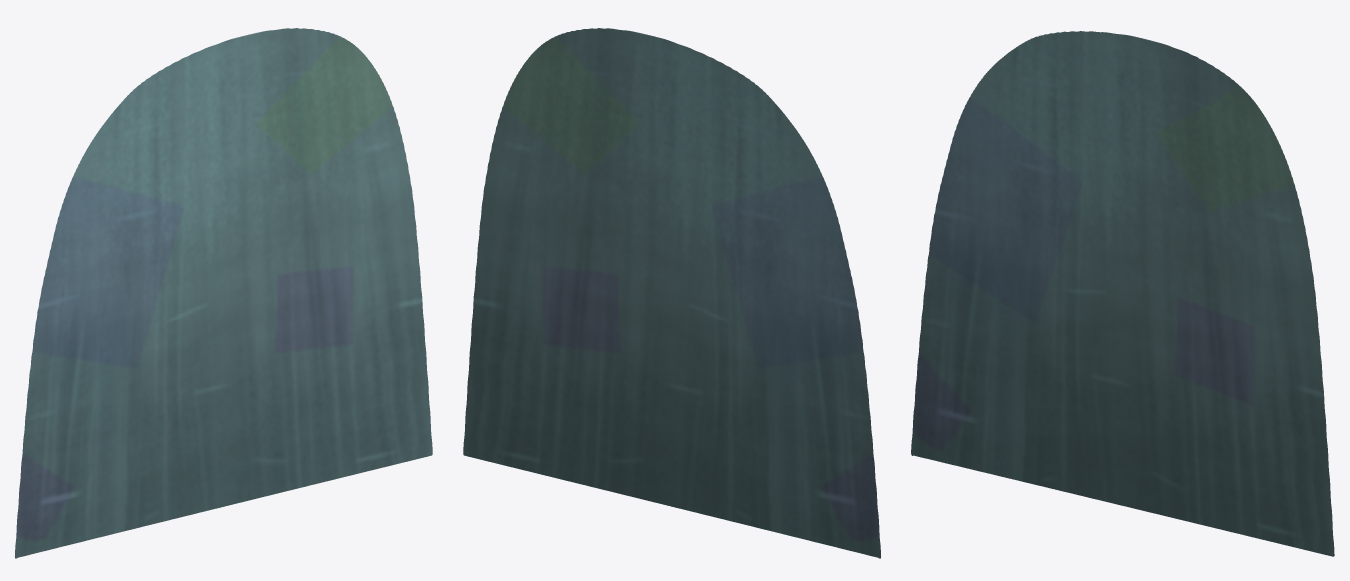
File: Muntanya_01.fbx
3 views of the same model, side by side, from view 1: azimuth 30°, elevation 25°; view 2: azimuth 150°, elevation 25°; view 3: azimuth 330°, elevation 25° (orthographic).
Parts seen in each view (by area): view 1: Muntanya_01; view 2: Muntanya_01; view 3: Muntanya_01.
Part boxes in pixels (x1,y1,x2,y2): Muntanya_01: (15, 28, 432, 558); Muntanya_01: (463, 28, 880, 558); Muntanya_01: (911, 31, 1334, 556).
Bounding box in the file's own units: 7.51 × 8.22 × 8.88e-16.
